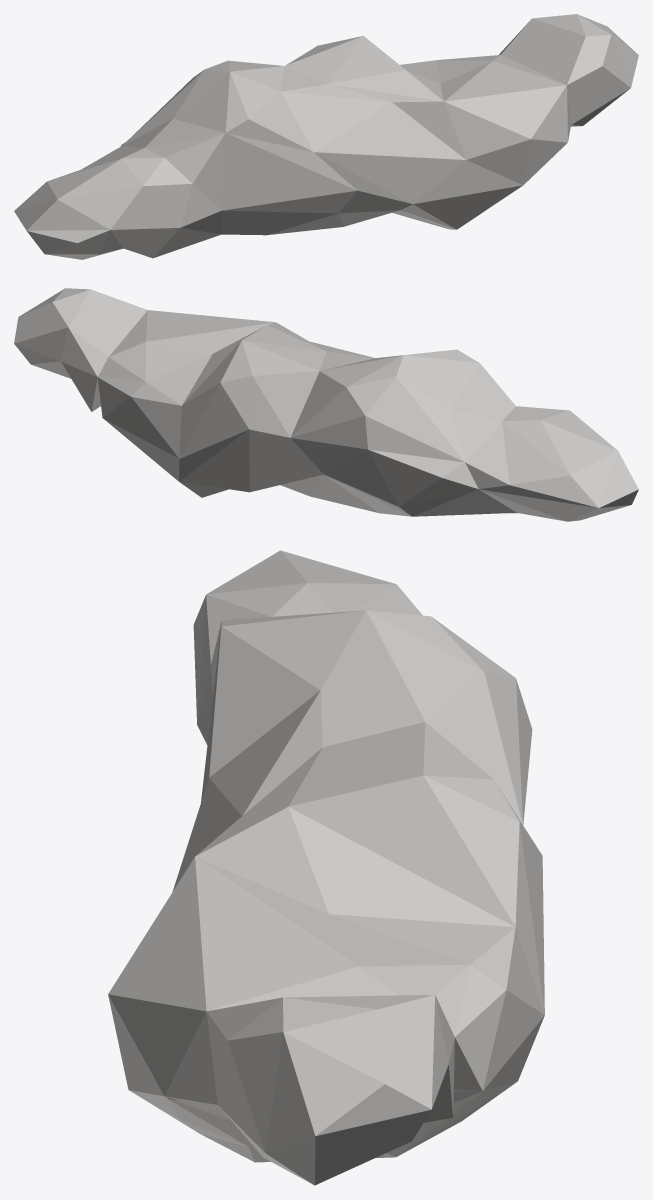
File: cloud_b.glb
The picture shows the model from 3 angles, top to bottom: view 1: azimuth 30°, elevation 25°; view 2: azimuth 150°, elevation 25°; view 3: azimuth 270°, elevation 25°; orthographic projection. The views are drawn at different scales.
Visible parts, largest first — view 1: SM_Env_Cloud_02; view 2: SM_Env_Cloud_02; view 3: SM_Env_Cloud_02.
Part boxes in pixels (box(x1,y1,x2,y2)): SM_Env_Cloud_02: box(14, 14, 638, 259); SM_Env_Cloud_02: box(14, 288, 638, 521); SM_Env_Cloud_02: box(108, 550, 544, 1185).
Size of the model in its own units: 872 by 249 by 269.
Materials: 1 (1 with a texture image).
